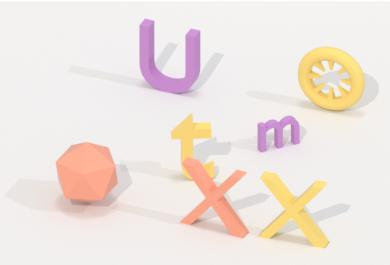0-TronCanh: (50, 140, 124, 208)
0-TronLo: (295, 43, 369, 116)
U: (137, 16, 203, 95)
X: (257, 168, 332, 251), (182, 155, 250, 242)
m: (250, 112, 304, 156)
